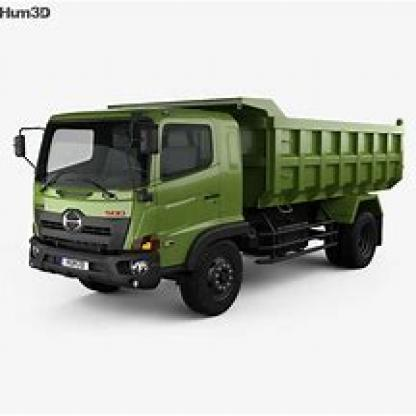dump_truck: (17, 92, 402, 320)
